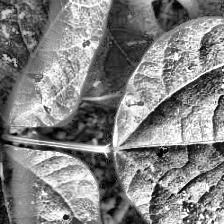ALS: (110, 25, 224, 224), (0, 0, 95, 121), (0, 149, 107, 224)
